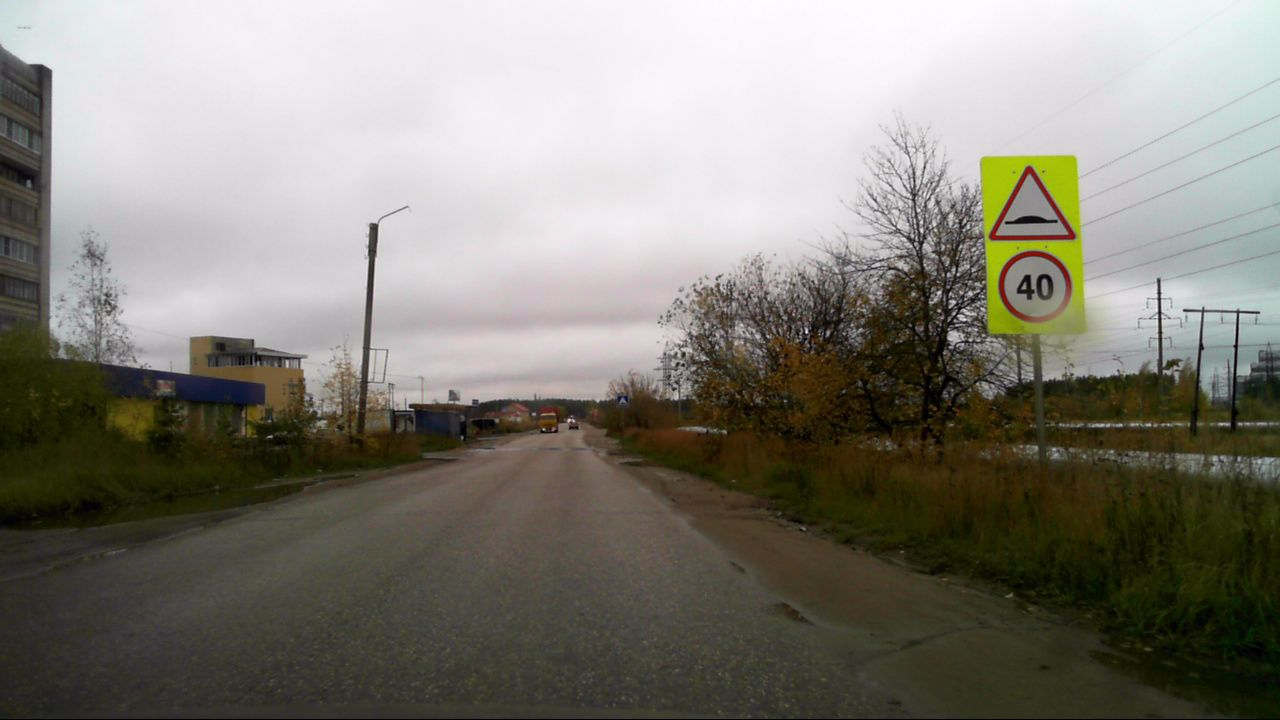speed_warning_40: (999, 251, 1071, 323)
